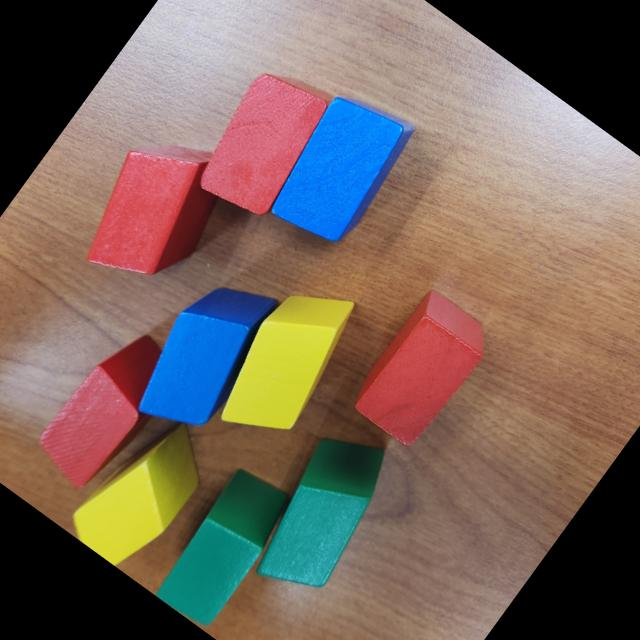blue: (116, 256, 294, 452), (256, 79, 423, 259)
green: (233, 416, 409, 611), (147, 460, 300, 632)
red: (61, 113, 248, 311), (23, 316, 185, 498), (180, 58, 342, 232), (342, 284, 498, 454)
yellow: (202, 266, 372, 457), (61, 401, 222, 577)
